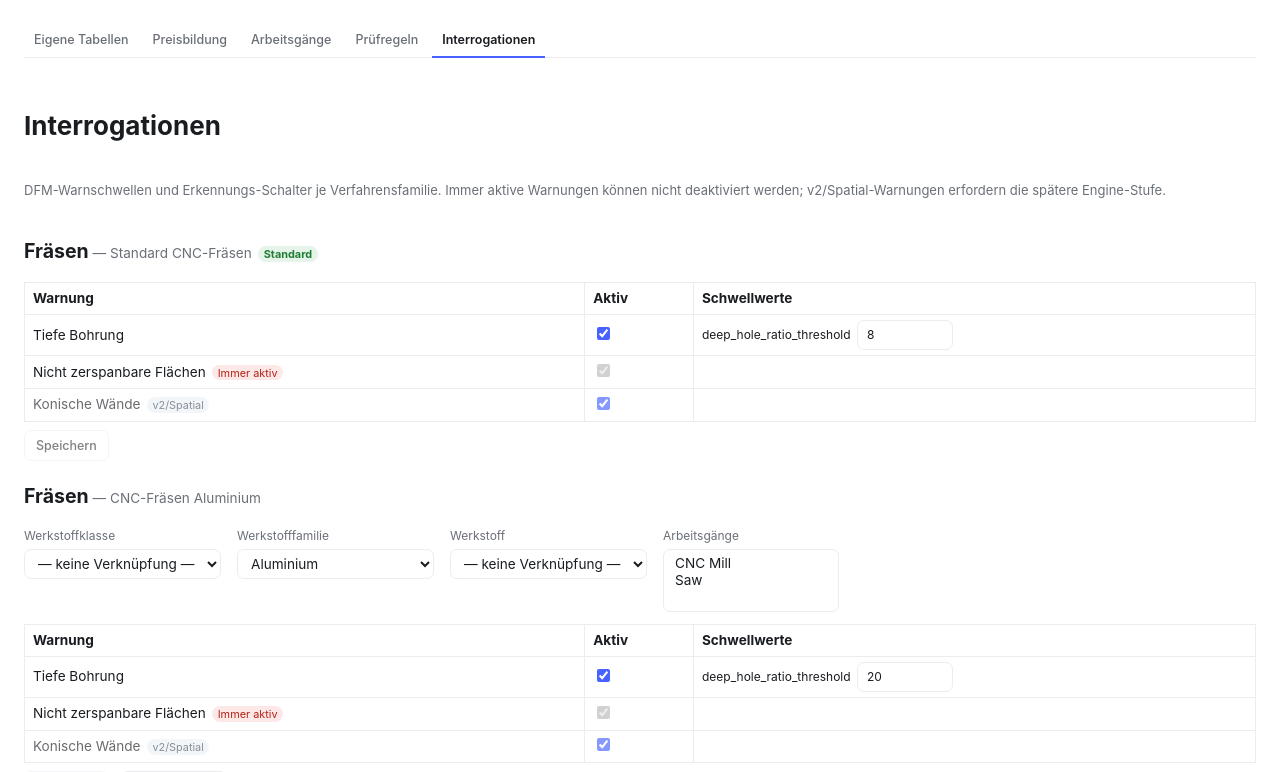
Test: InterrogationsPage › keeps Save enabled when inputs change while a save is in flight
Expected: the text "Tiefe Bohrung" is shown 2 times, x1=33 y1=327 x2=124 y2=343; x1=33 y1=668 x2=124 y2=684
Replace the text in the number field named "Standard CNC-Fräsen deep_hole_ratio_threshold" with "12.5" at point(905, 335), box x1=857 y1=320 x2=953 y2=350
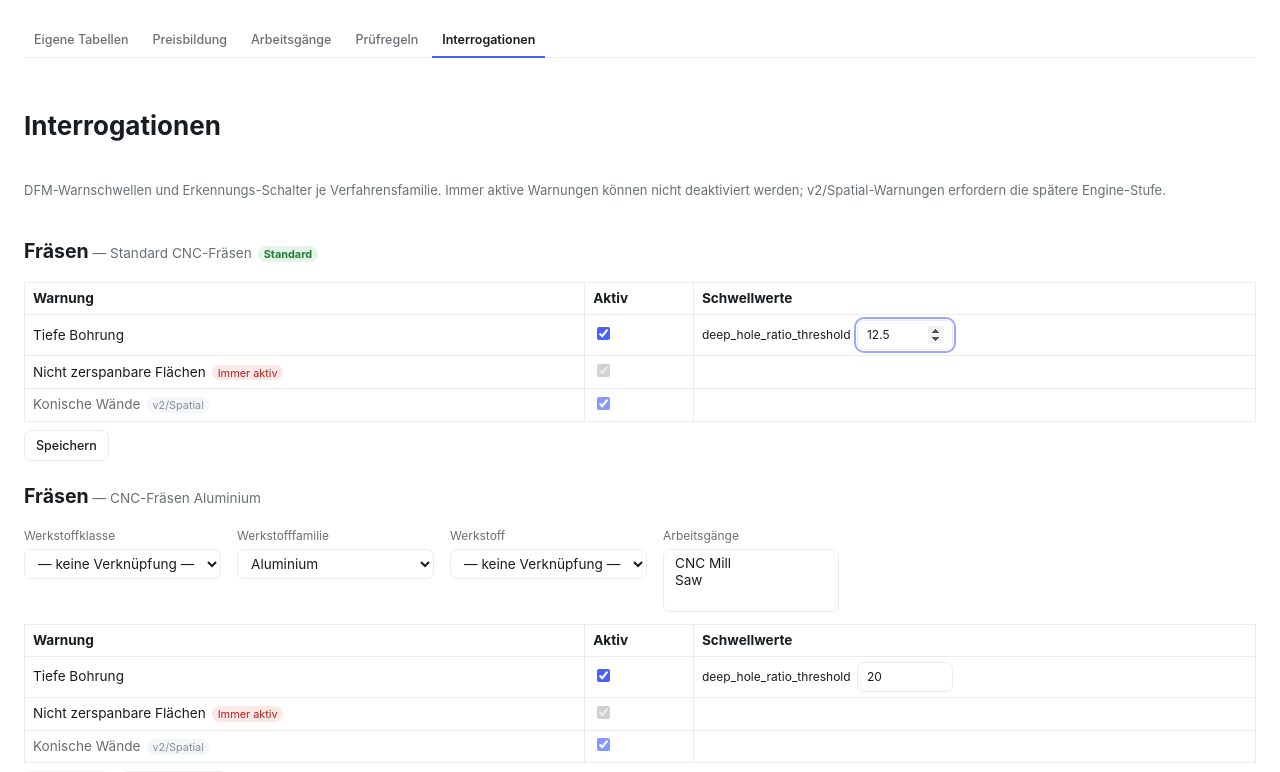
Click the button "Speichern" below "Standard CNC-Fräsen" at point(66, 445), box x1=24 y1=430 x2=109 y2=461
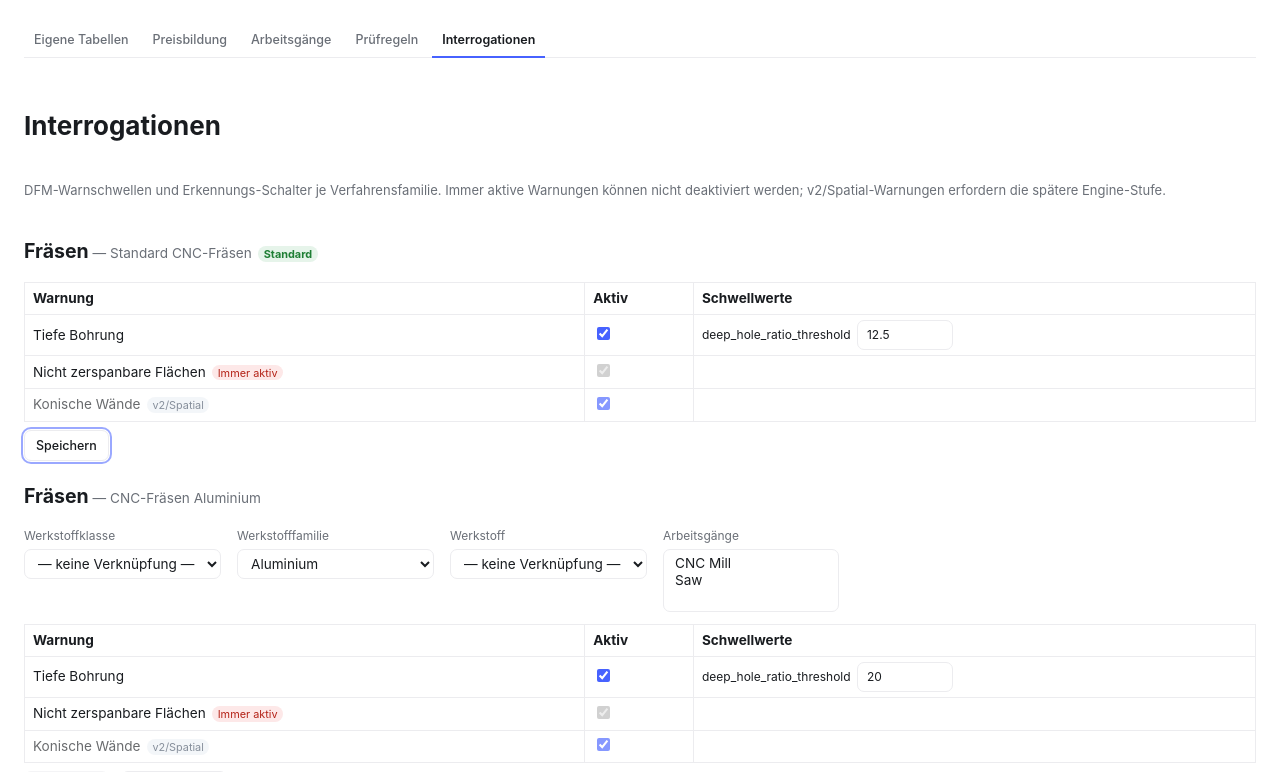
// edit lands while the request is still pending…
Replace the text in the number field named "Standard CNC-Fräsen deep_hole_ratio_threshold" with "14" at point(905, 335), box x1=857 y1=320 x2=953 y2=350
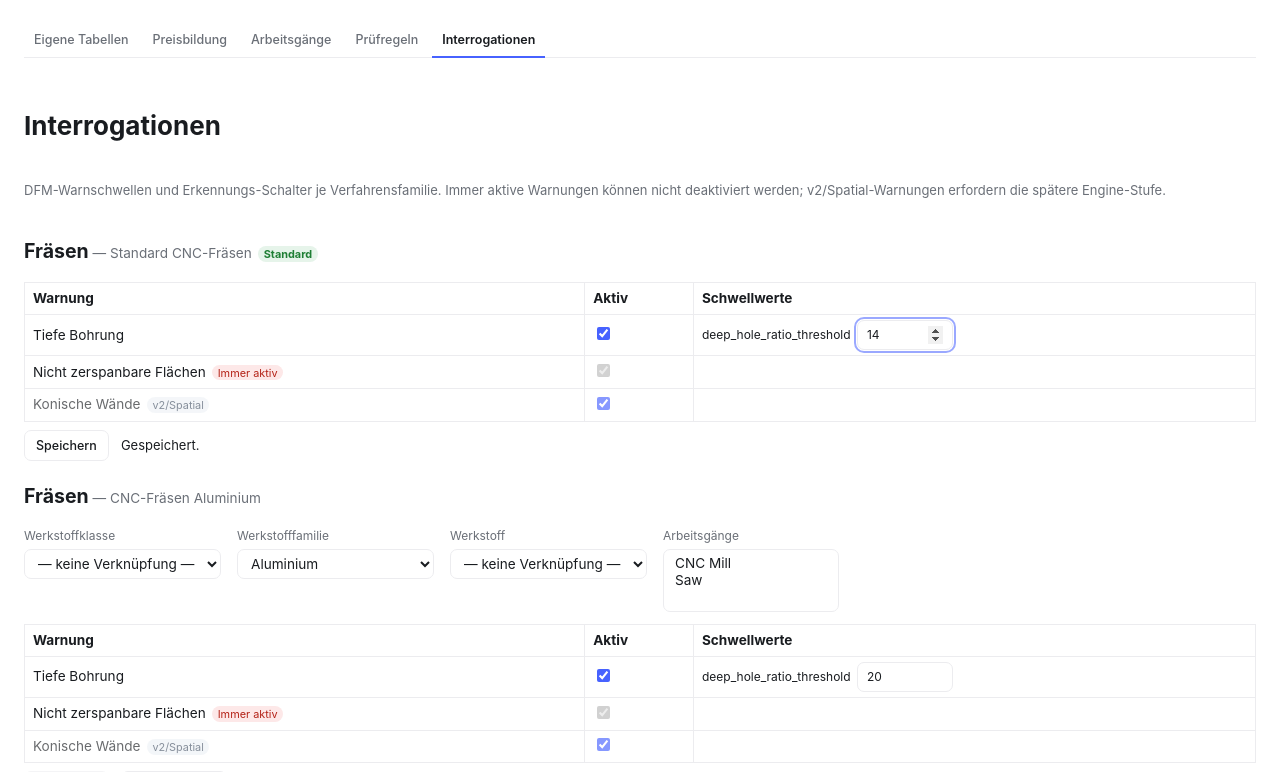
Result: the button "Speichern" next to "Gespeichert." is enabled at x1=24 y1=430 x2=109 y2=461
Result: the message reads "Gespeichert." at x1=121 y1=437 x2=200 y2=453
